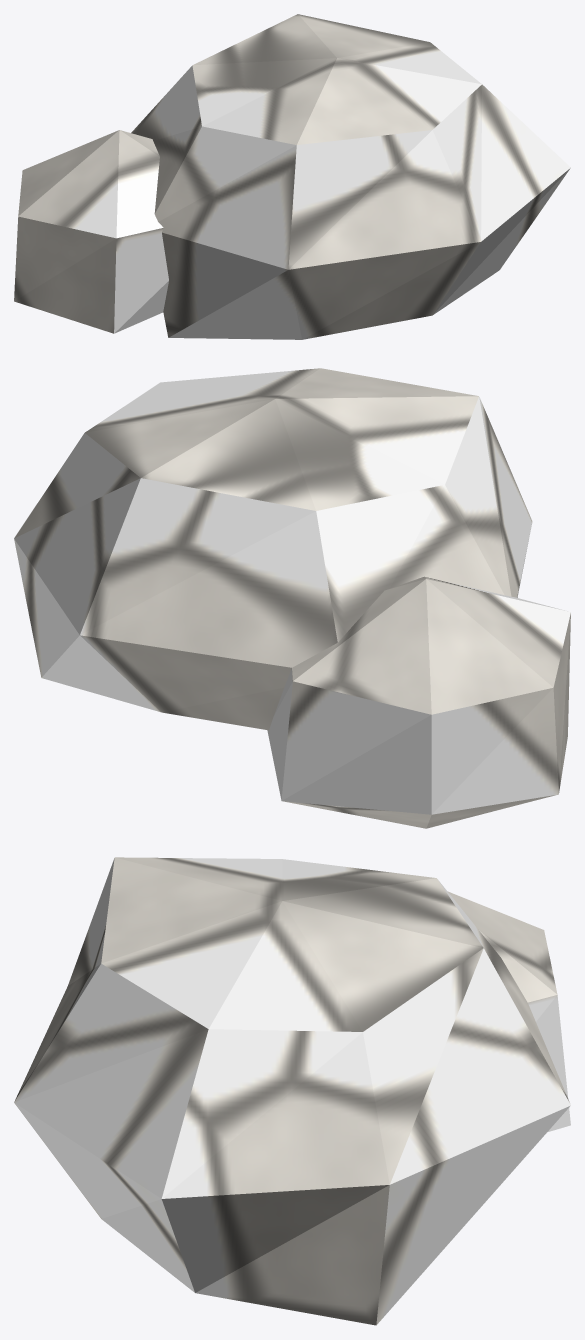
The model's file is sasso_a.obj.
The picture shows the model from 3 angles, top to bottom: view 1: azimuth 30°, elevation 25°; view 2: azimuth 150°, elevation 25°; view 3: azimuth 270°, elevation 25°; orthographic projection. The views are drawn at different scales.
Parts seen in each view (by area): view 1: sasso_a; view 2: sasso_a; view 3: sasso_a.
Boxes of the visible parts, <box> form: sasso_a: <box>14,14,570,339</box>; sasso_a: <box>14,368,570,828</box>; sasso_a: <box>14,857,570,1325</box>.
Size of the model in its own units: 1.1 by 0.6 by 0.83.
Materials: 2 (2 with a texture image).
